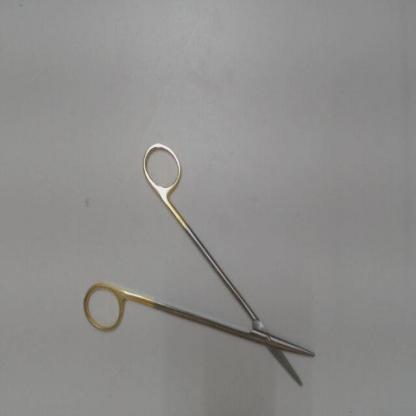7 Metzenbaum Scissors: (79, 138, 323, 398)
